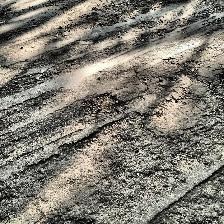pothole: (82, 92, 126, 116)
